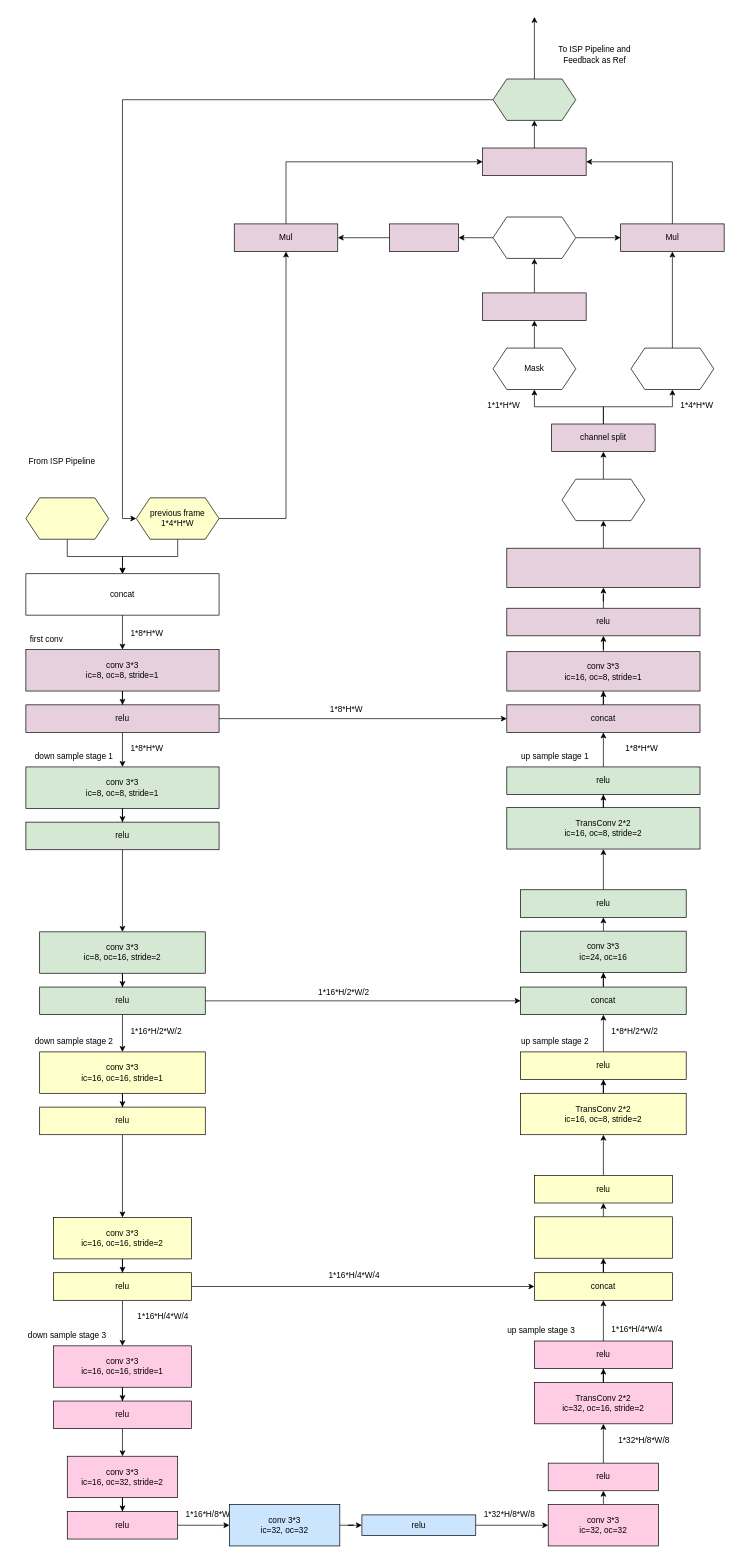
The diagram is 746 pixels wide and 1558 high, and some of its shapes have lost their labels. The shapes that lost their labels are listed below. From the top down, each one's centre as x and y in pixels, then its label:
At point 534,99: "Fusion Out".
At point 534,161: "Add".
At point 424,237: "1 - Present Prob".
At point 534,237: "Present Prob".
At point 534,306: "Sigmoid".
At point 672,368: "present_denoise".
At point 67,518: "present frame 1*4*H*W".
At point 603,500: "net output 1*5*H*W".
At point 603,568: "conv 3*3 ic=8, oc=5, stride=1".
At point 603,1237: "conv 3*3 ic=32, oc=16".
